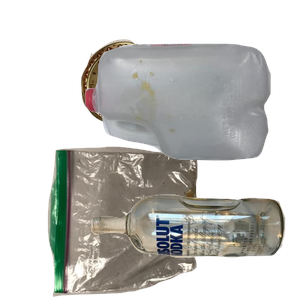glass: (88, 192, 300, 300)
metal: (78, 37, 243, 163)
plastic: (83, 41, 300, 194)
trash: (45, 144, 235, 300)
